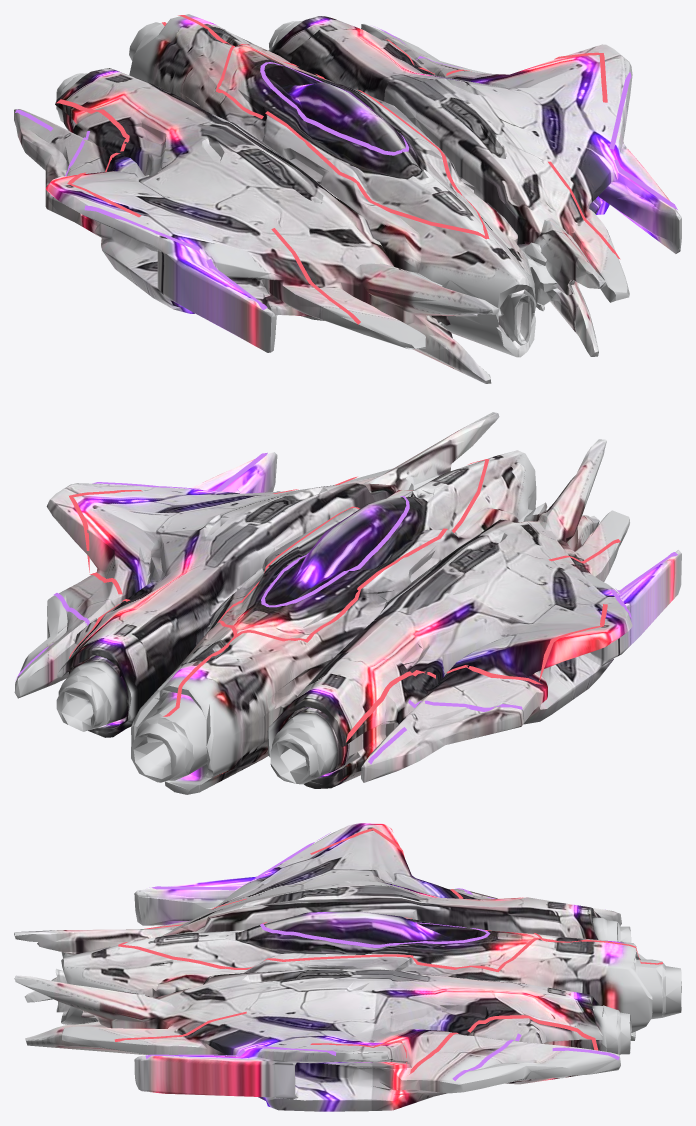
The model's file is megaboss_smooth.glb.
3 views of the same model, one above another, from view 1: azimuth 30°, elevation 25°; view 2: azimuth 150°, elevation 25°; view 3: azimuth 270°, elevation 25° (orthographic). The views are drawn at different scales.
Parts seen in each view (by area): view 1: hull, strip_red, strip_violet; view 2: hull, strip_red, strip_violet; view 3: hull, strip_red, strip_violet.
Part boxes in pixels (bbox=[...]): hull: bbox=[14, 14, 681, 383]; strip_red: bbox=[56, 15, 620, 324]; strip_violet: bbox=[15, 26, 677, 310]; hull: bbox=[14, 412, 681, 794]; strip_red: bbox=[69, 459, 620, 742]; strip_violet: bbox=[15, 452, 677, 764]; hull: bbox=[14, 823, 681, 1111]; strip_red: bbox=[114, 828, 662, 1074]; strip_violet: bbox=[145, 832, 619, 1080].
Size of the model in its own units: 29.93 by 8.63 by 36.47.
3 materials, 1 textured.
